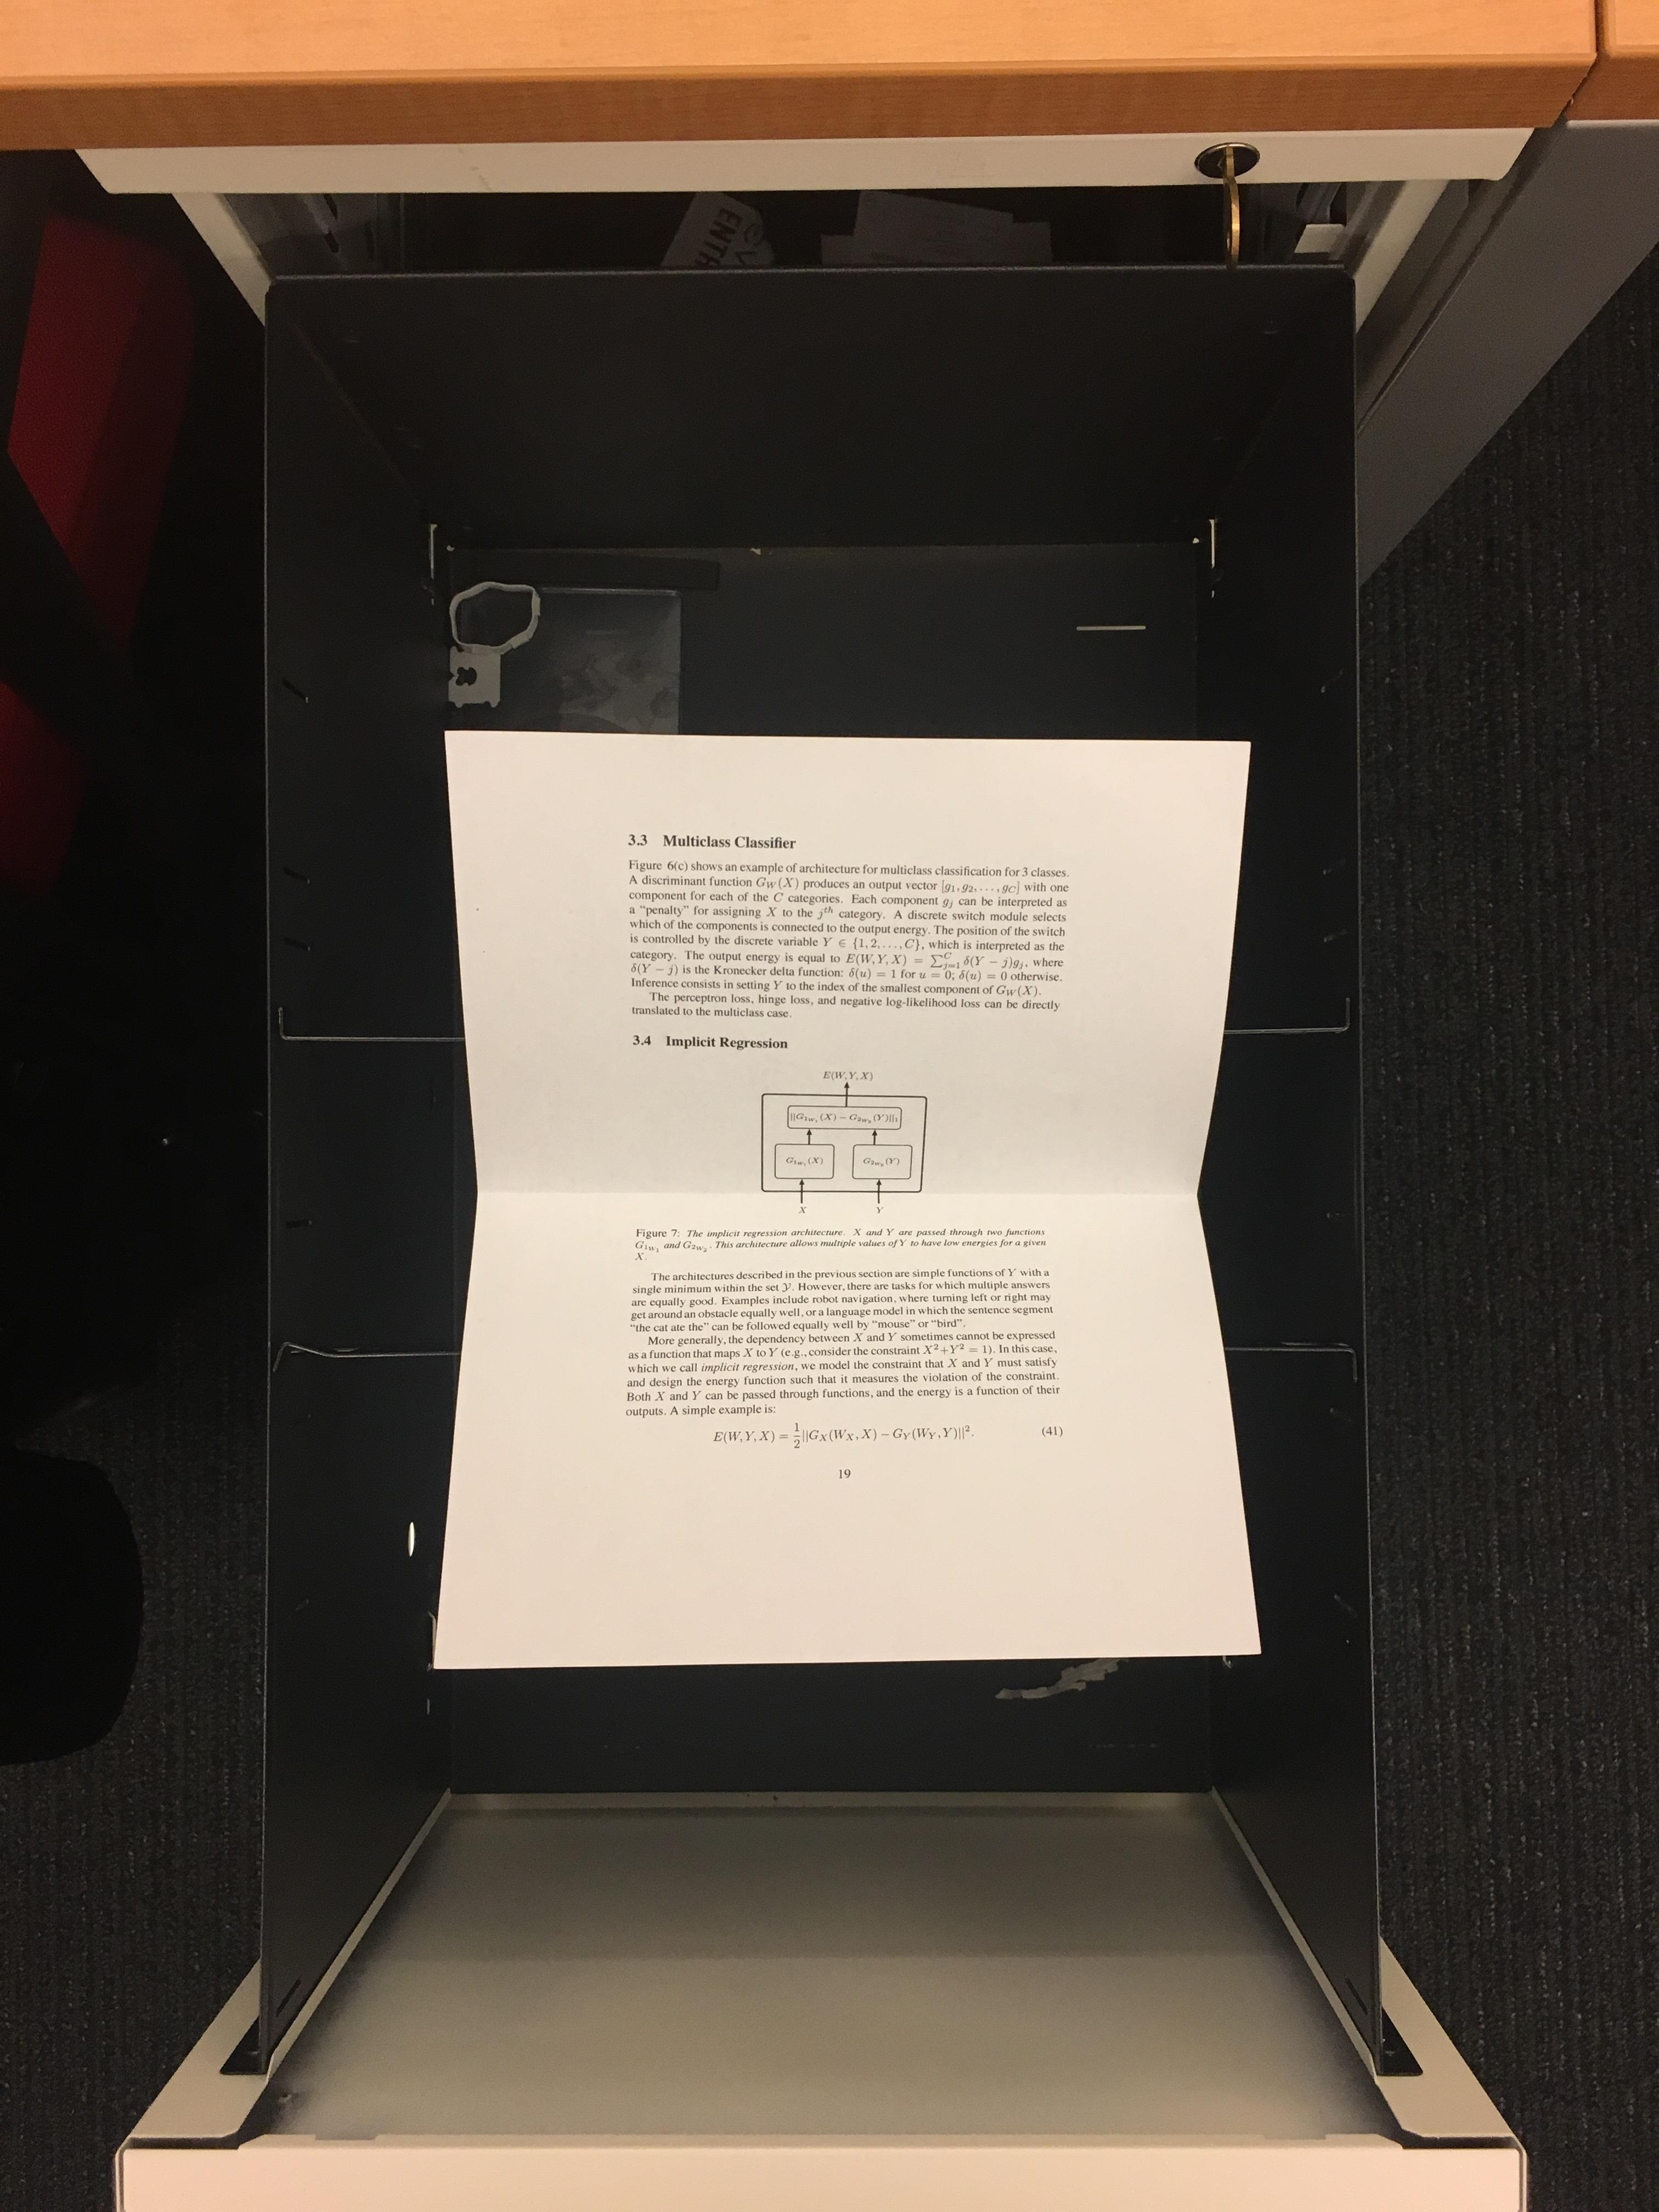paper: (301, 634, 1434, 1745)
